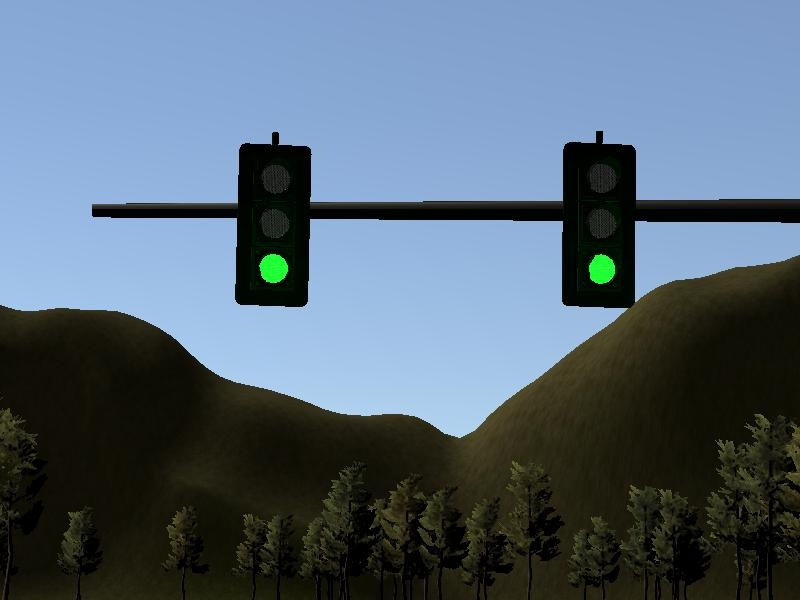traffic_light_green: (194, 132, 799, 307)
